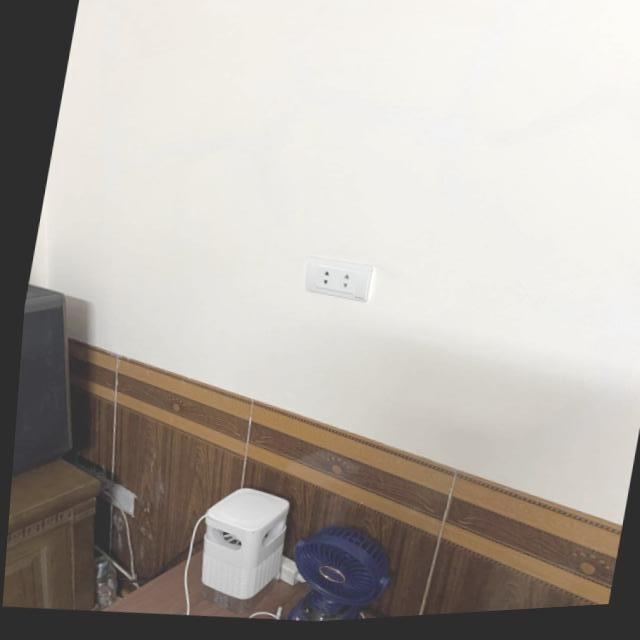outlet: (300, 254, 376, 307)
